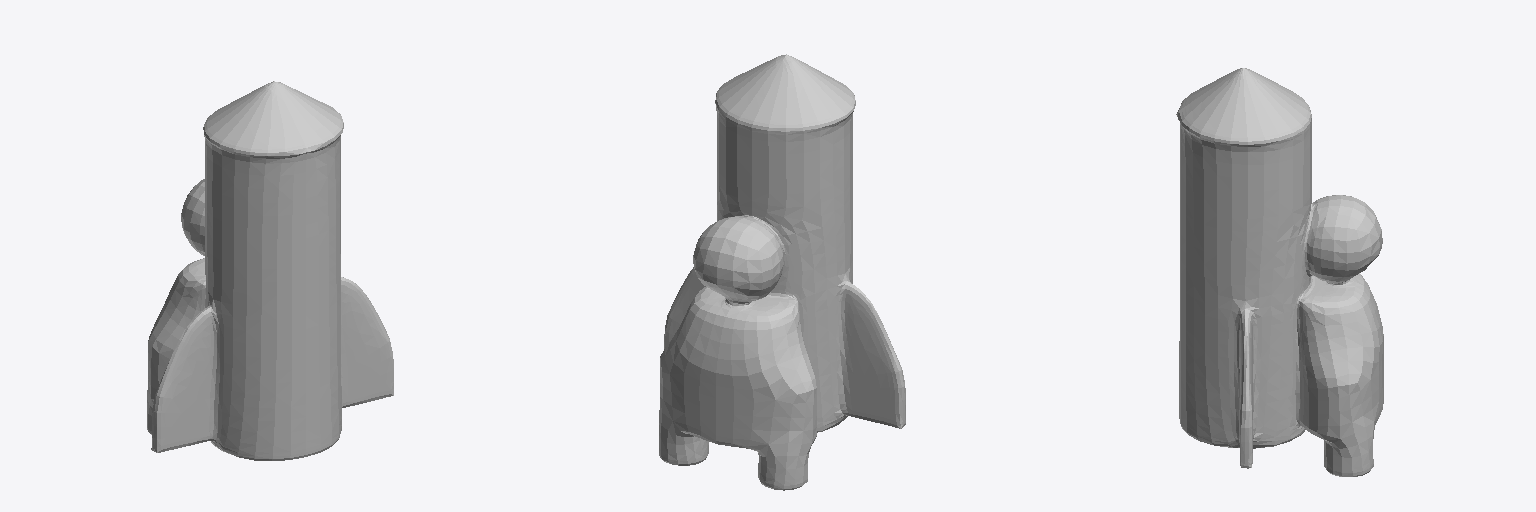
File: monkeyCL_PM3D_Cylinder3D_oPP.OBJ
3 renders of one model, left to right at view 1: azimuth 30°, elevation 25°; view 2: azimuth 150°, elevation 25°; view 3: azimuth 270°, elevation 25°, orthographic.
Visible parts, largest first — view 1: Group6126; view 2: Group6126; view 3: Group6126.
Boxes of the visible parts, x1=… form: Group6126: x1=147, y1=81, x2=393, y2=460; Group6126: x1=659, y1=54, x2=905, y2=490; Group6126: x1=1176, y1=68, x2=1383, y2=476.
Size of the model in its own units: 6.09 by 9.18 by 4.59.